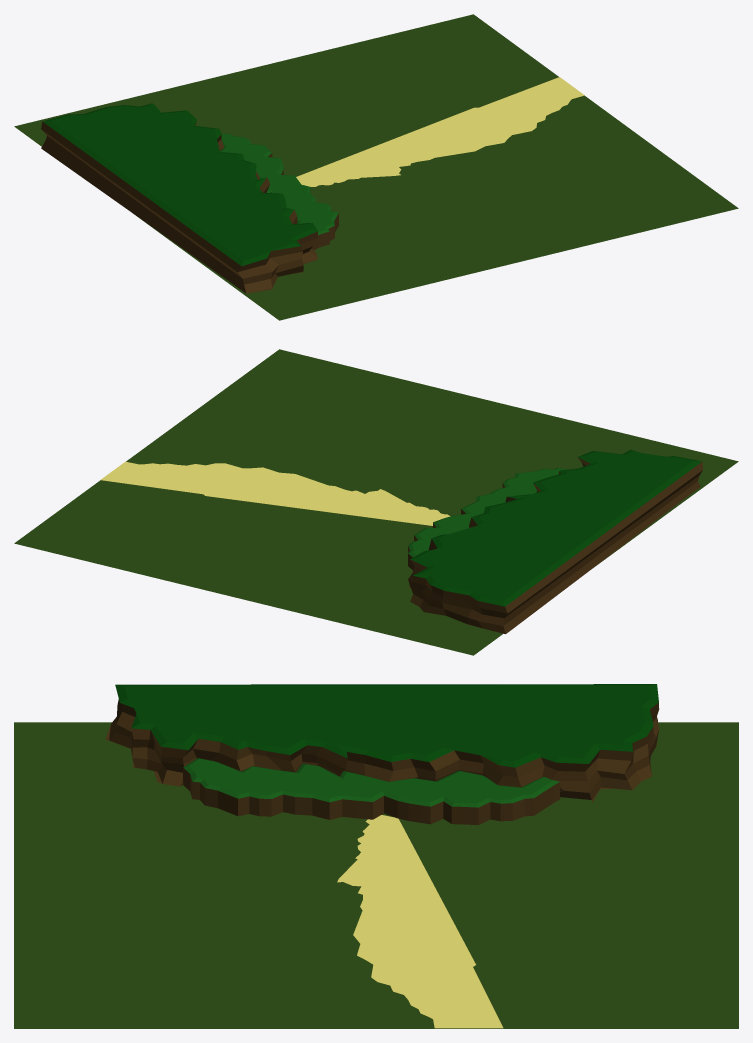
The model's file is terrainnivel2.fbx.
3 renders of one model, top to bottom at view 1: azimuth 30°, elevation 25°; view 2: azimuth 150°, elevation 25°; view 3: azimuth 270°, elevation 25°, orthographic. The views are drawn at different scales.
Parts seen in each view (by area): view 1: Plane.001; view 2: Plane.001; view 3: Plane.001.
Part boxes in pixels (x1,y1,x2,y2): Plane.001: [14, 14, 738, 320]; Plane.001: [14, 349, 738, 655]; Plane.001: [14, 684, 738, 1028].
Bounding box in the file's own units: 5039 × 302 × 5000.
